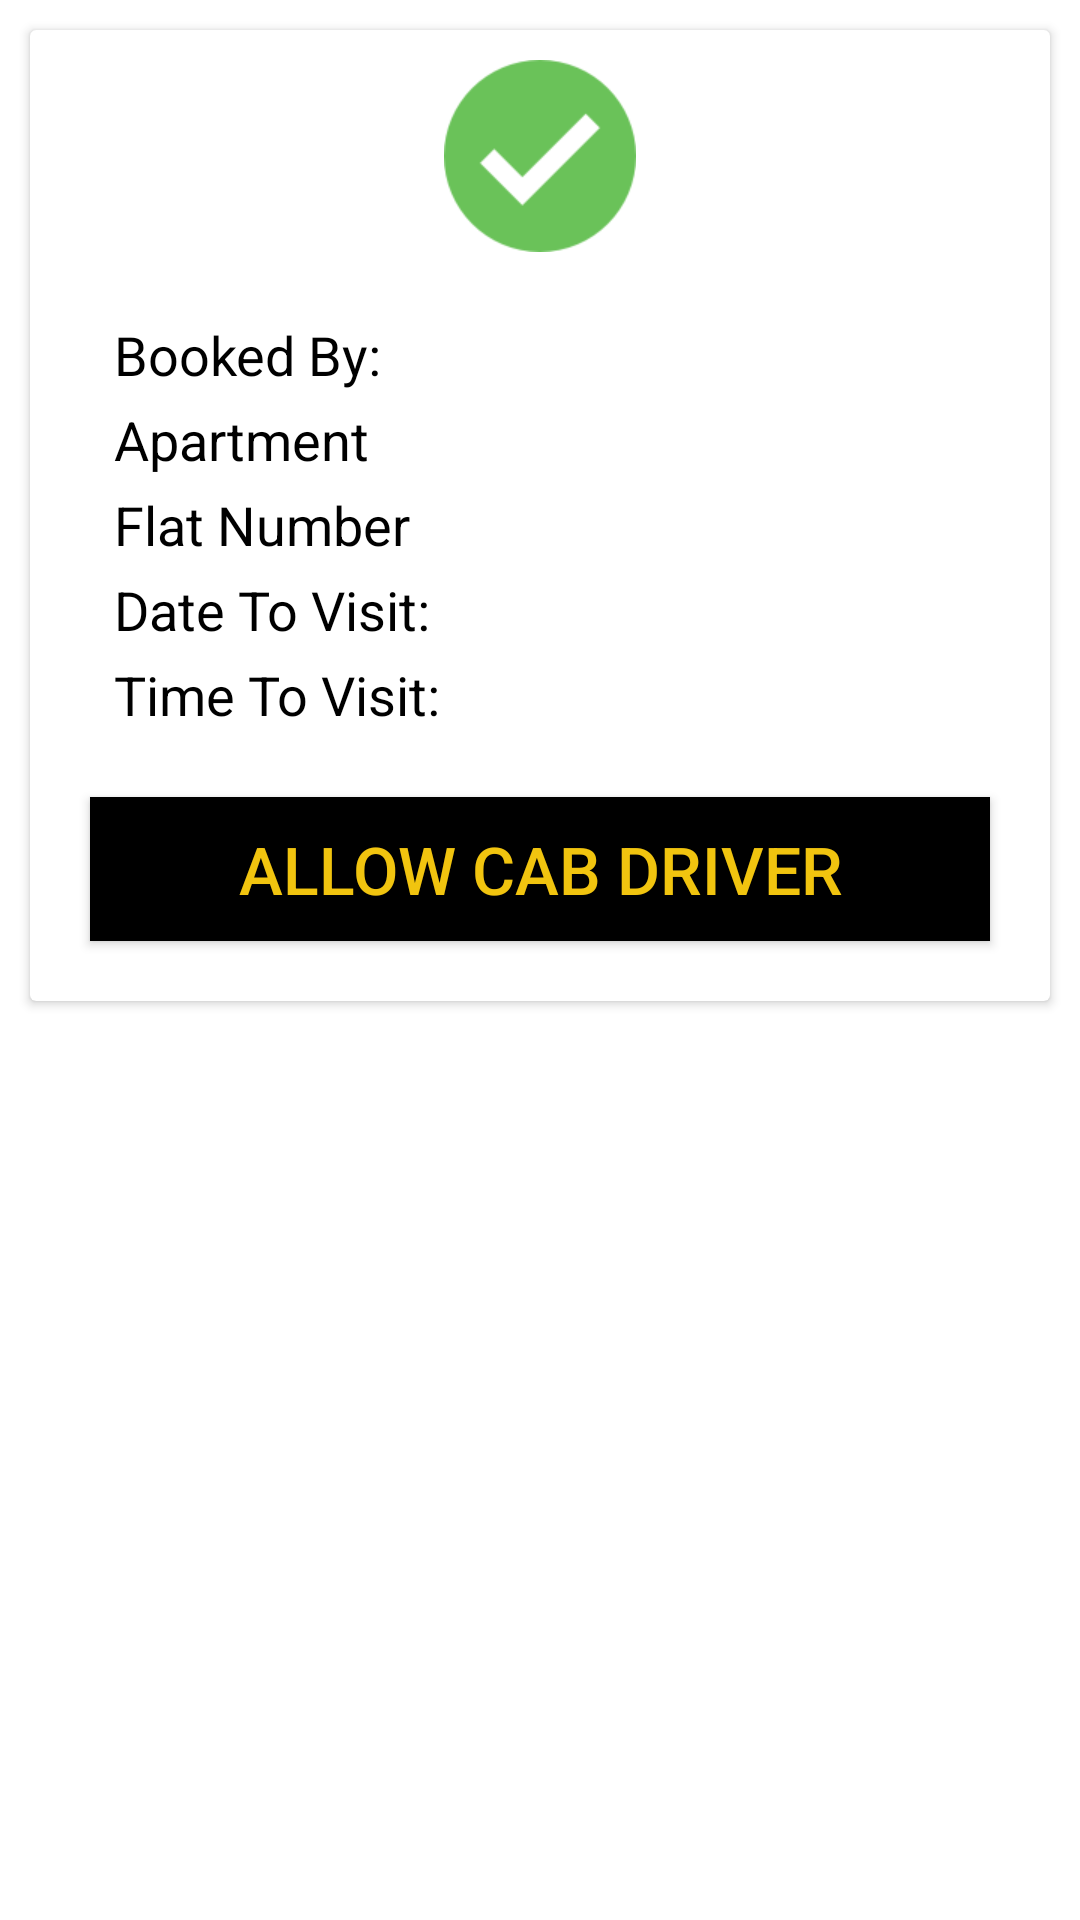

Named icons in this screenshot (1080px x 1920px) and their bounding boxes, {"x1": x1, "y1": y1, "x2": x2, "y2": y2}:
Image to indicate for successful visitor validation: {"x1": 444, "y1": 60, "x2": 636, "y2": 252}
